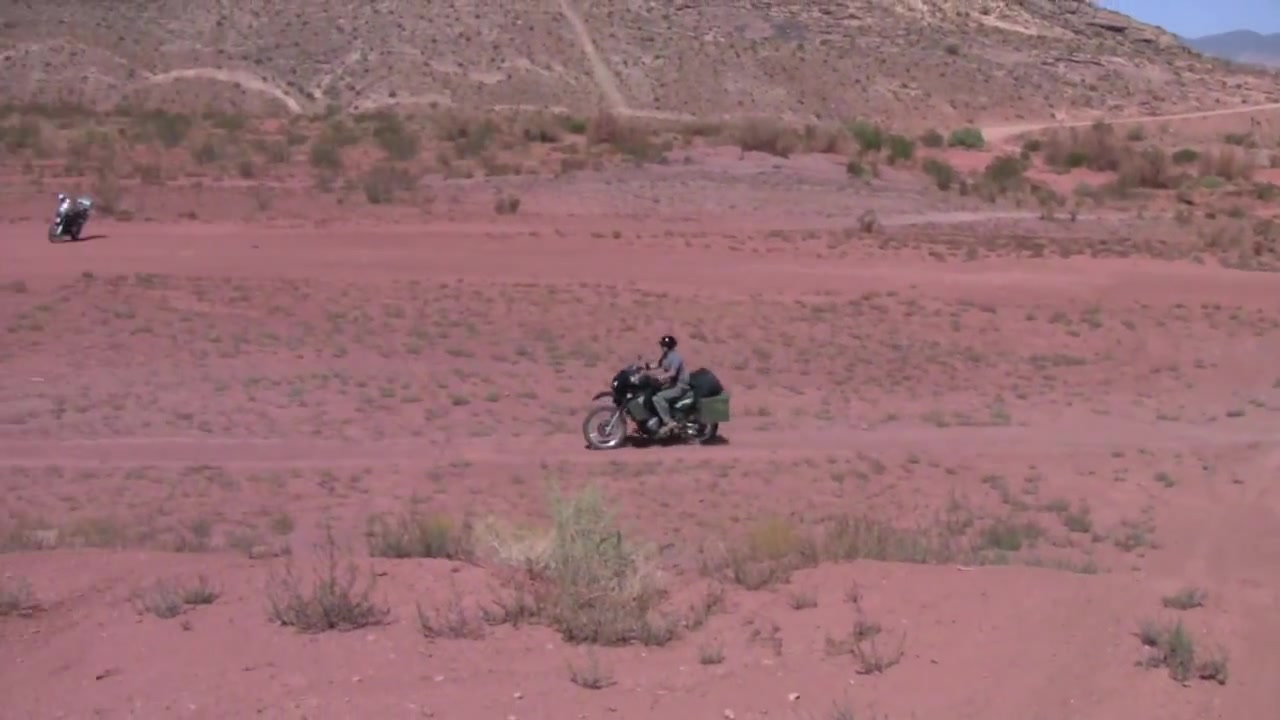motorbike: (581, 357, 725, 452), (45, 191, 95, 244)
